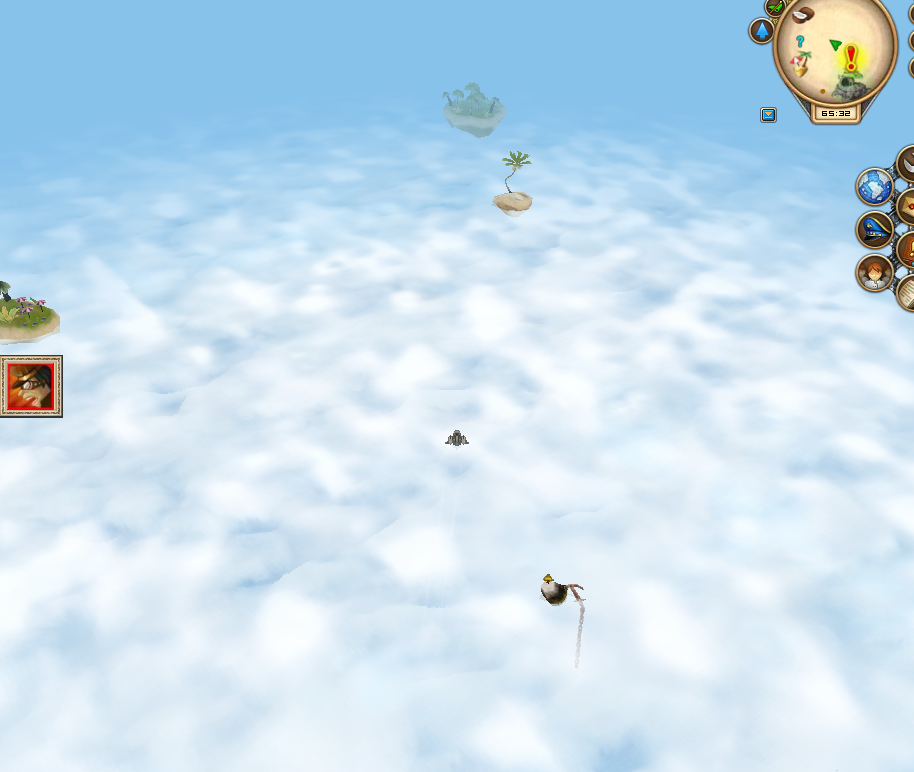palm: (490, 146, 536, 219)
